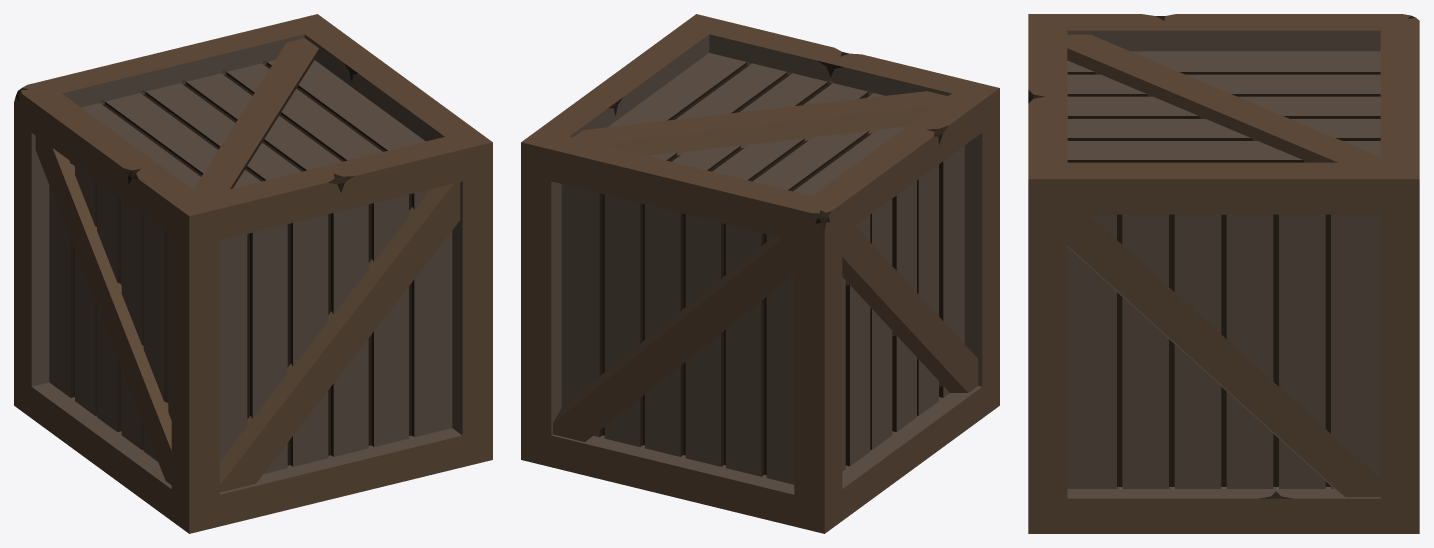
File: Crate2.fbx
The picture shows the model from 3 angles, left to right: view 1: azimuth 30°, elevation 25°; view 2: azimuth 150°, elevation 25°; view 3: azimuth 270°, elevation 25°; orthographic projection. The views are drawn at different scales.
Parts seen in each view (by area): view 1: Crate.002; view 2: Crate.002; view 3: Crate.002.
Boxes of the visible parts, <box> form: Crate.002: <box>14,14,492,533</box>; Crate.002: <box>521,14,999,533</box>; Crate.002: <box>1028,14,1419,533</box>.
Bounding box in the file's own units: 1.35 × 1.35 × 1.35.
